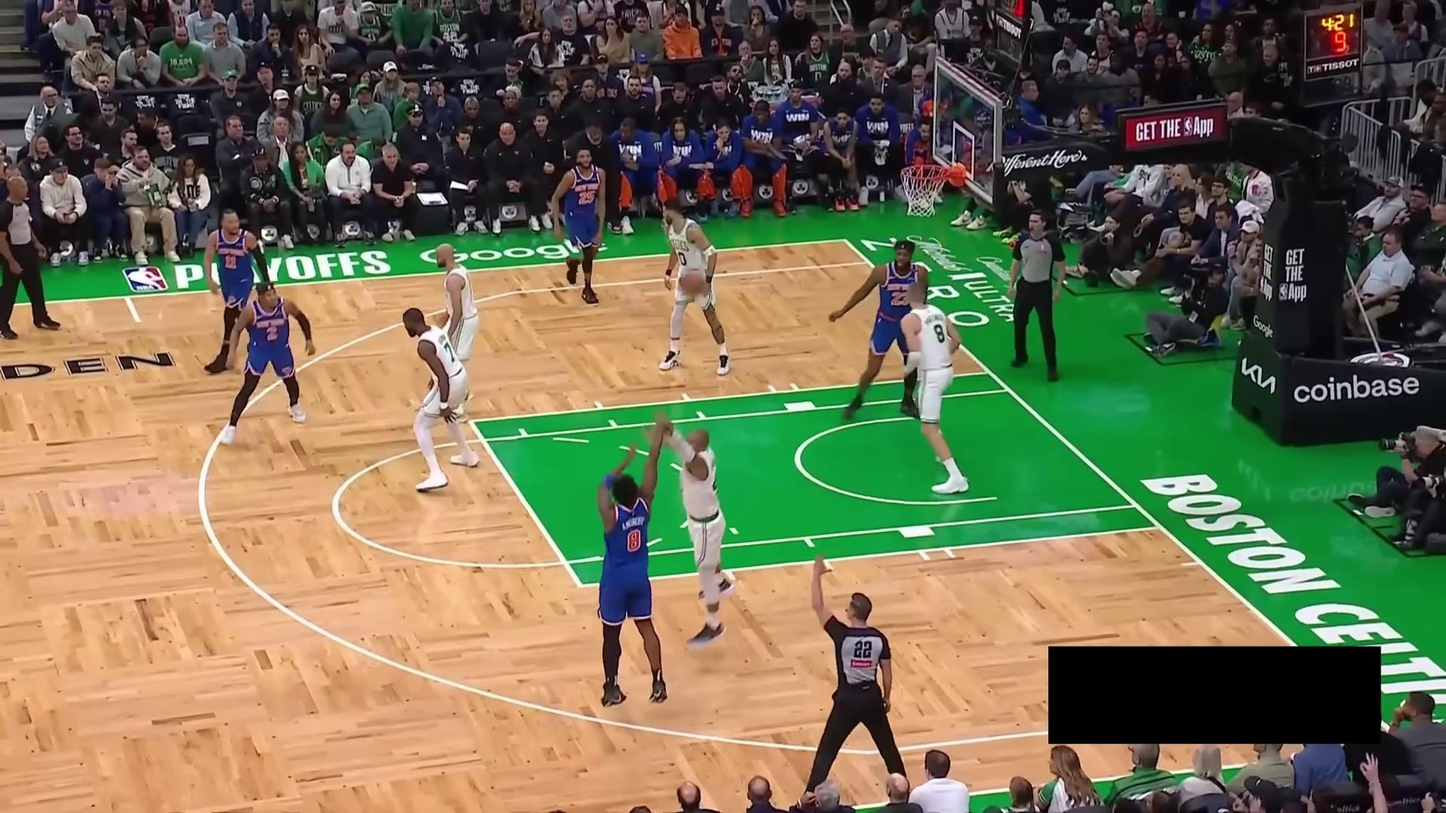ball: (679, 272, 707, 296)
number: (626, 528, 643, 553), (889, 289, 908, 307), (442, 340, 456, 363), (578, 189, 596, 206), (932, 323, 945, 343), (265, 324, 279, 342), (224, 254, 237, 269), (676, 249, 687, 266)
player: (828, 239, 929, 422), (218, 280, 316, 446), (897, 279, 970, 495), (402, 306, 482, 492), (657, 197, 732, 376), (203, 207, 273, 376), (429, 242, 481, 424), (550, 146, 609, 306)
player-jump-shot: (593, 411, 673, 710)
player-shot-block: (642, 422, 736, 648)
referee: (804, 553, 911, 803), (0, 176, 63, 341), (1007, 209, 1066, 383)
rim: (899, 163, 950, 181)
